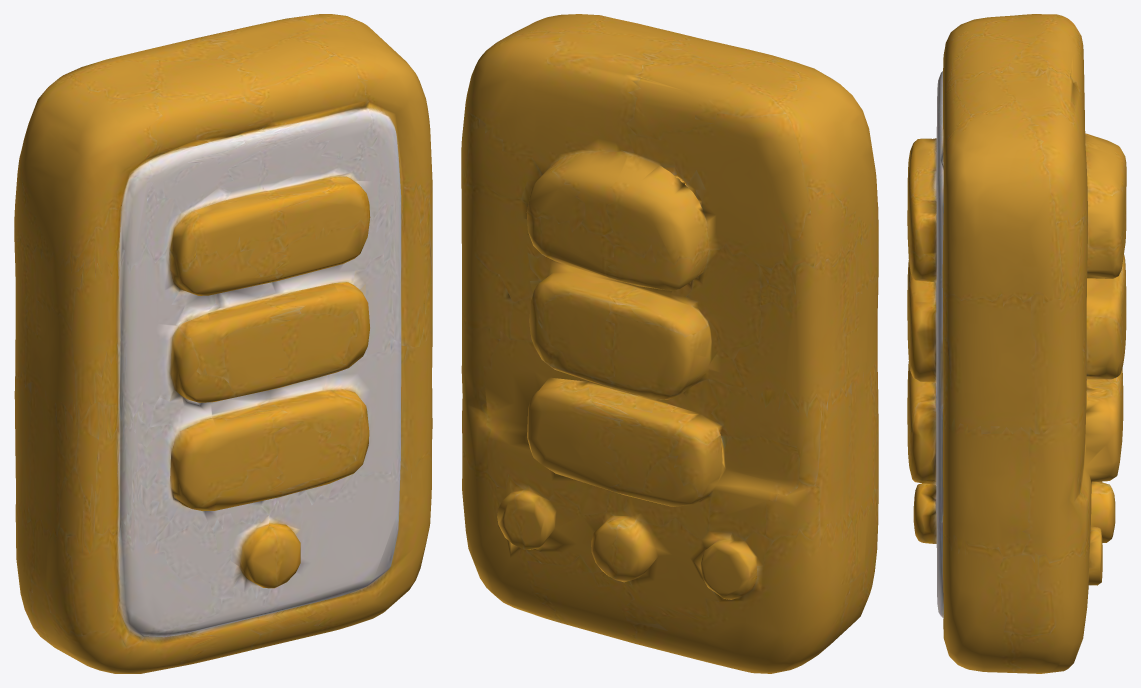
The model's file is obj-detail.glb.
3 views of the same model, side by side, from view 1: azimuth 30°, elevation 25°; view 2: azimuth 150°, elevation 25°; view 3: azimuth 270°, elevation 25° (orthographic). The views are drawn at different scales.
Visible parts, largest first — view 1: tripo_node_da72cf9d-c7c3-4845-b1e7-b32386afc93e; view 2: tripo_node_da72cf9d-c7c3-4845-b1e7-b32386afc93e; view 3: tripo_node_da72cf9d-c7c3-4845-b1e7-b32386afc93e.
Boxes of the visible parts, x1=… form: tripo_node_da72cf9d-c7c3-4845-b1e7-b32386afc93e: x1=14, y1=14, x2=432, y2=673; tripo_node_da72cf9d-c7c3-4845-b1e7-b32386afc93e: x1=461, y1=14, x2=878, y2=673; tripo_node_da72cf9d-c7c3-4845-b1e7-b32386afc93e: x1=907, y1=14, x2=1126, y2=673.
Size of the model in its own units: 0.6604 by 0.9801 by 0.3532.
Materials: 1 (1 with a texture image).
